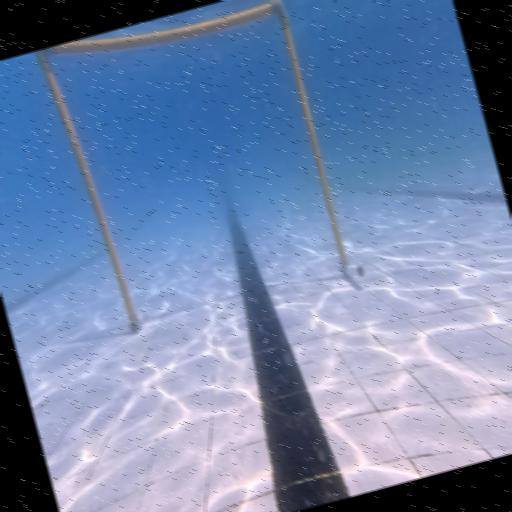gate: (34, 0, 366, 341)
